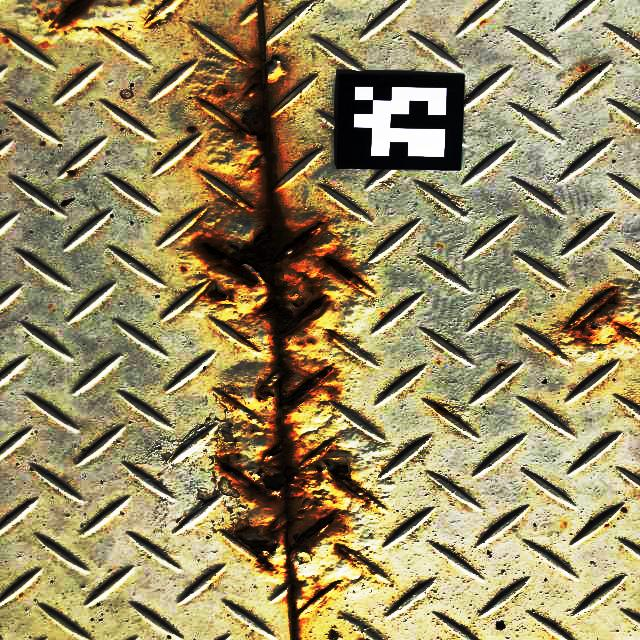Corrosion: (193, 61, 374, 640), (567, 289, 640, 346), (54, 0, 97, 30), (334, 544, 356, 565), (432, 403, 448, 415)
